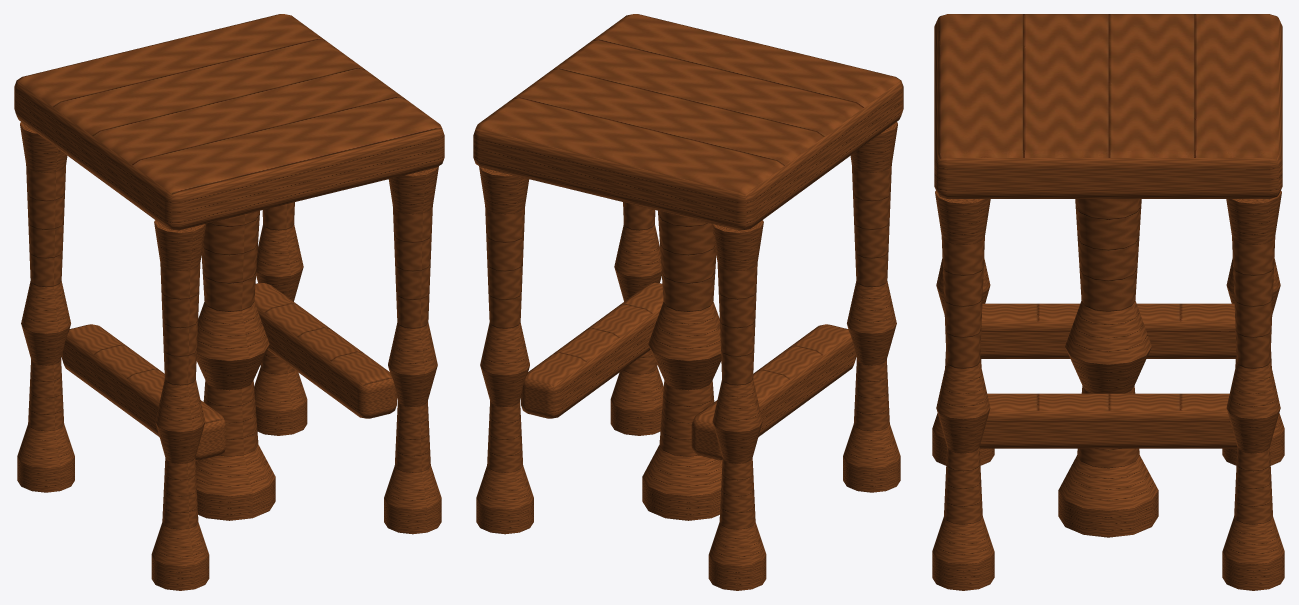
The model's file is witch-cottage-and-apothecary-mismatched-stool-4eb25173__32448.glb.
3 renders of one model, left to right at view 1: azimuth 30°, elevation 25°; view 2: azimuth 150°, elevation 25°; view 3: azimuth 270°, elevation 25°, orthographic. The views are drawn at different scales.
Parts seen in each view (by area): view 1: mismatched-stool; view 2: mismatched-stool; view 3: mismatched-stool.
Part boxes in pixels (x1,y1,x2,y2): mismatched-stool: (14,14,444,590); mismatched-stool: (473,14,903,590); mismatched-stool: (932,14,1284,590).
Bounding box in the file's own units: 0.3644 × 0.495 × 0.3644.
Materials: 1 (1 with a texture image).
